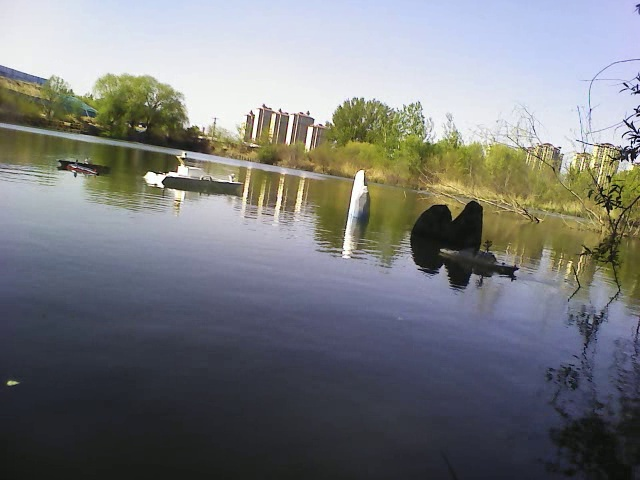aircraft_carrier: (56, 152, 108, 169)
boat: (142, 152, 247, 197)
iceberg: (345, 165, 376, 224)
rock: (410, 193, 489, 245)
submarine: (64, 163, 101, 175)
warship: (433, 244, 518, 272)
